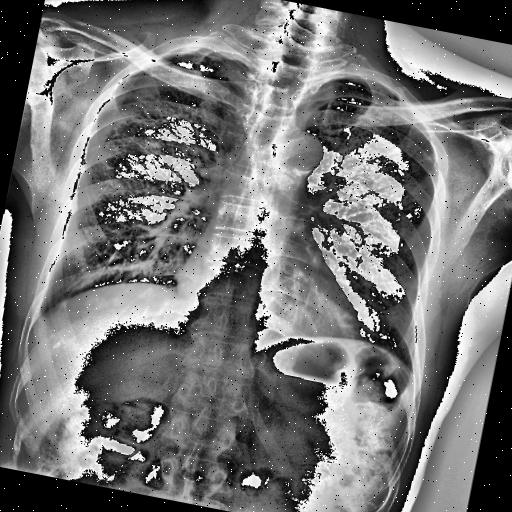10- Pleural effusion: (30, 298, 58, 326), (31, 298, 52, 333)
11- Pleural thickening: (169, 40, 253, 71), (324, 70, 392, 96), (162, 37, 204, 64), (160, 38, 202, 62), (30, 298, 58, 326), (31, 298, 52, 333)
13- Pulmonary fibrosis: (95, 60, 197, 138), (106, 84, 190, 170), (104, 97, 180, 162)
6- Infiltration: (95, 60, 197, 138)
